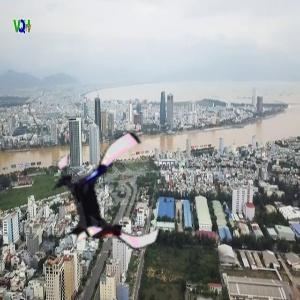drone: (46, 137, 175, 266)
